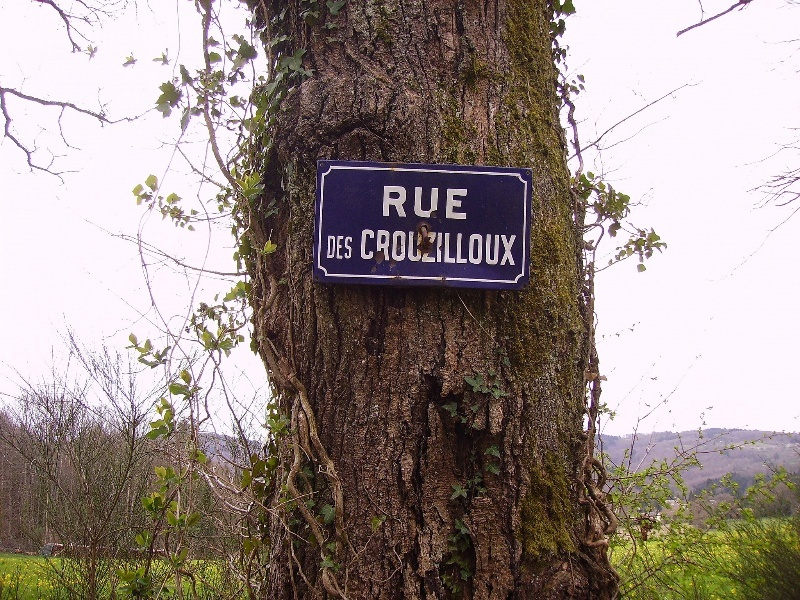text: (369, 228, 384, 266), (385, 228, 400, 266), (401, 228, 416, 266), (417, 228, 432, 266), (433, 228, 448, 266), (449, 228, 464, 266), (465, 228, 480, 266), (481, 228, 496, 266), (497, 228, 512, 266), (385, 184, 400, 221), (401, 184, 416, 221), (417, 184, 432, 221), (433, 184, 448, 221), (449, 184, 464, 221), (337, 234, 352, 260), (327, 234, 336, 260), (363, 228, 368, 266), (513, 228, 517, 266), (465, 184, 469, 221), (383, 184, 384, 221), (353, 234, 354, 260)
